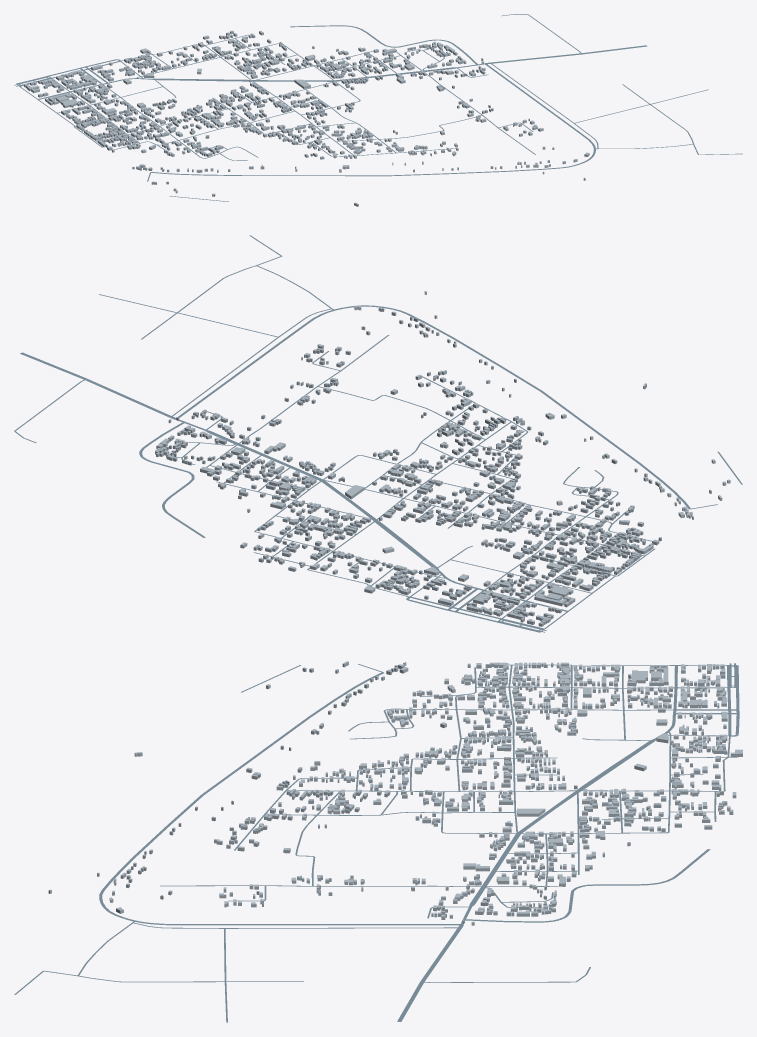
3 renders of one model, top to bottom at view 1: azimuth 30°, elevation 25°; view 2: azimuth 150°, elevation 25°; view 3: azimuth 270°, elevation 25°, orthographic. The views are drawn at different scales.
Size of the model in its own units: 1931 by 8 by 1655.
